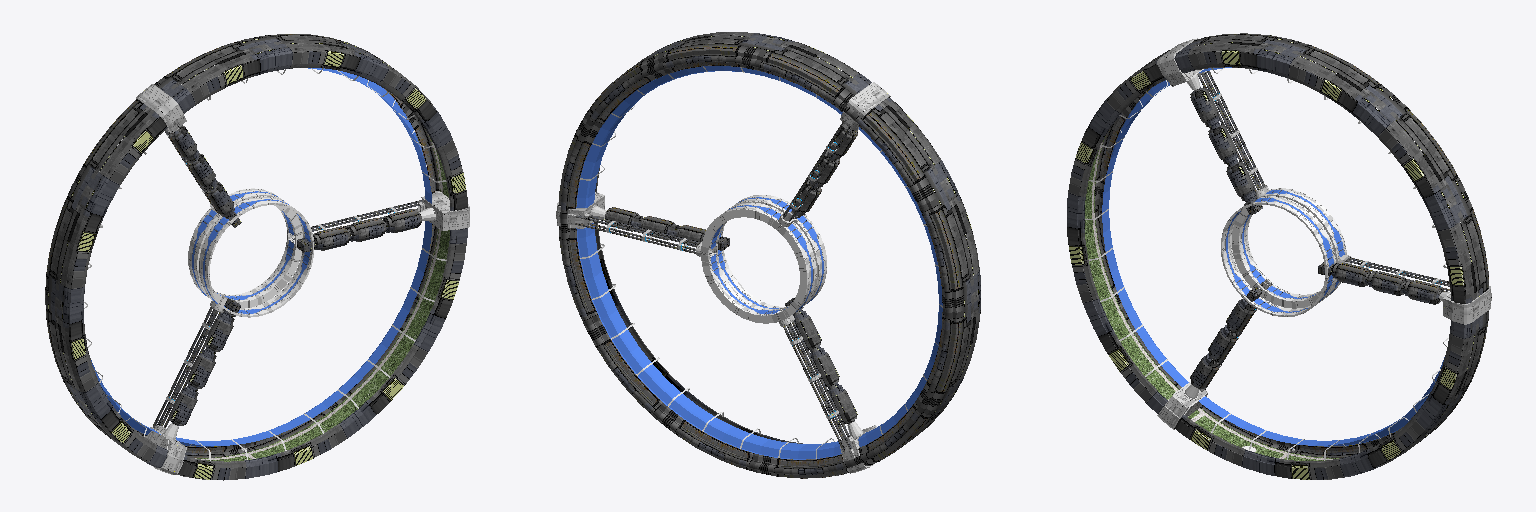
The picture shows the model from 3 angles: view 1: azimuth 30°, elevation 25°; view 2: azimuth 150°, elevation 25°; view 3: azimuth 330°, elevation 25°; orthographic projection.
Parts seen in each view (by area): view 1: spanel3, spanel, blueShade, thickgrasspale, spanel2, silver, stucco; view 2: spanel3, blueShade, spanel, spanel2, silver; view 3: spanel3, spanel, blueShade, thickgrasspale, spanel2, silver, stucco.
Boxes of the visible parts, x1=… form: spanel3: x1=45, y1=34, x2=467, y2=480; spanel: x1=188, y1=188, x2=313, y2=317; blueShade: x1=91, y1=68, x2=431, y2=446; thickgrasspale: x1=197, y1=136, x2=449, y2=461; spanel2: x1=136, y1=84, x2=469, y2=474; silver: x1=84, y1=68, x2=447, y2=460; stucco: x1=195, y1=142, x2=442, y2=459; spanel3: x1=558, y1=32, x2=980, y2=478; blueShade: x1=576, y1=66, x2=942, y2=459; spanel: x1=701, y1=195, x2=826, y2=323; spanel2: x1=556, y1=82, x2=890, y2=473; silver: x1=576, y1=66, x2=942, y2=458; spanel3: x1=1067, y1=33, x2=1488, y2=479; spanel: x1=1221, y1=188, x2=1346, y2=316; blueShade: x1=1102, y1=67, x2=1444, y2=448; thickgrasspale: x1=1085, y1=136, x2=1338, y2=460; spanel2: x1=1157, y1=38, x2=1491, y2=451; silver: x1=1085, y1=68, x2=1450, y2=460; stucco: x1=1092, y1=142, x2=1332, y2=459.
Size of the model in its own units: 733 by 732 by 89.49.
14 materials, 8 textured.